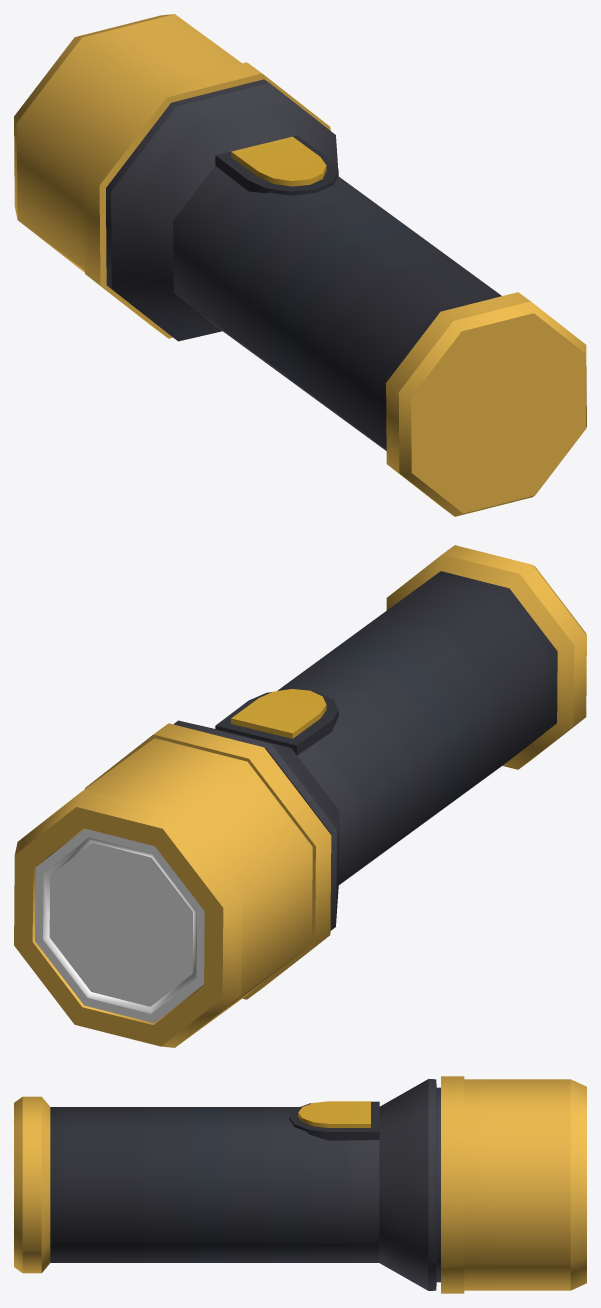
The model's file is Agent_Handheld_FlashLight.fbx.
3 renders of one model, top to bottom at view 1: azimuth 30°, elevation 25°; view 2: azimuth 150°, elevation 25°; view 3: azimuth 270°, elevation 25°, orthographic. The views are drawn at different scales.
Parts seen in each view (by area): view 1: Flashlight01_1; view 2: Flashlight01_1, Flashlight01_2; view 3: Flashlight01_1.
Boxes of the visible parts, bbox=[...] form: Flashlight01_1: bbox=[14, 14, 586, 516]; Flashlight01_1: bbox=[14, 545, 586, 1047]; Flashlight01_2: bbox=[35, 828, 204, 1023]; Flashlight01_1: bbox=[14, 1076, 586, 1293].
Size of the model in its own units: 0.1694 by 0.1694 by 0.481.
